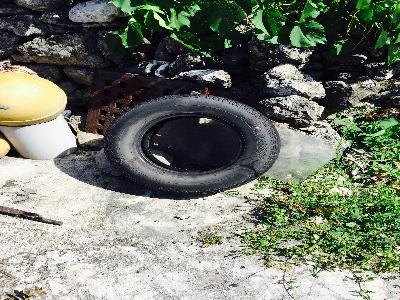tire: (101, 94, 281, 197)
